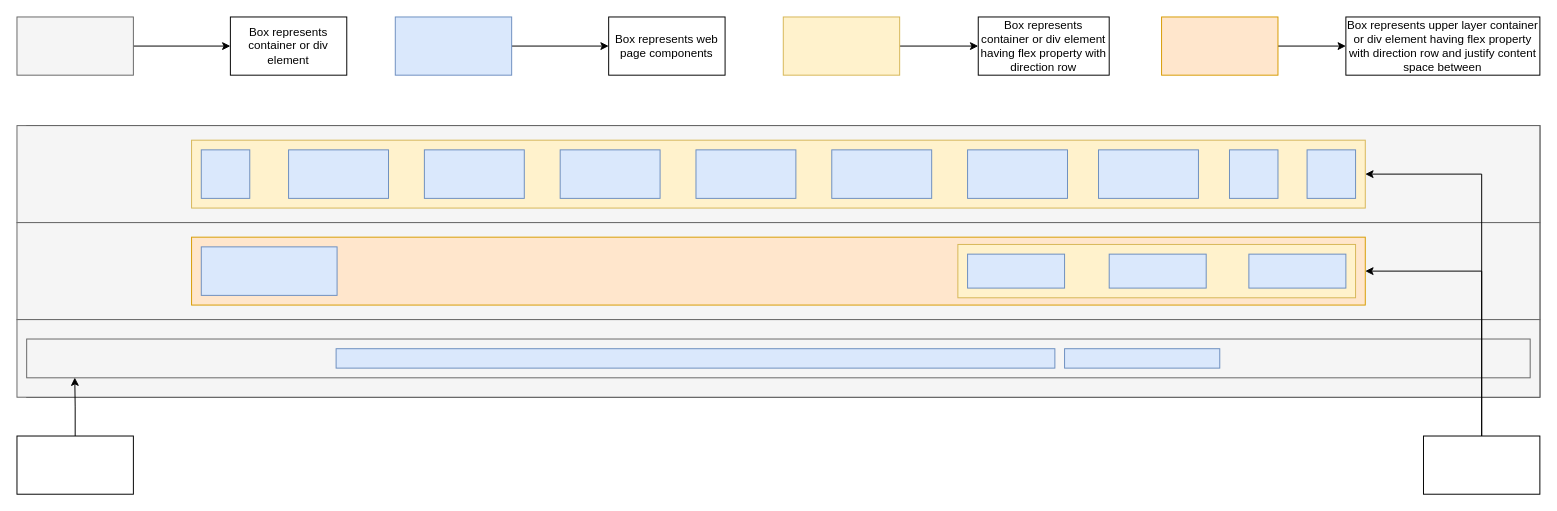
Some shapes in this 1557 by 511 pixel diagram are drawn without their labels. Each missing label, with the centre of its shape:
"Container having text-align center property" goes at (x=74, y=464).
"Containers having 180px padding on left ,right and 10px on top,bottom" goes at (x=1481, y=464).
